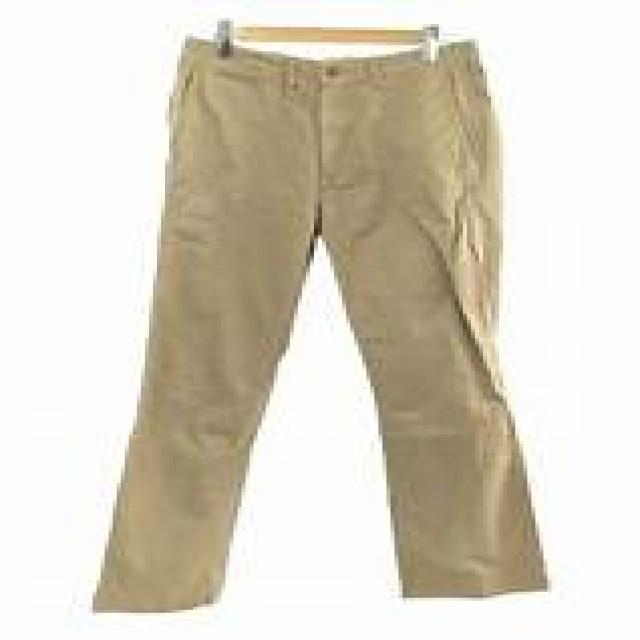long-pants: (89, 35, 558, 614)
